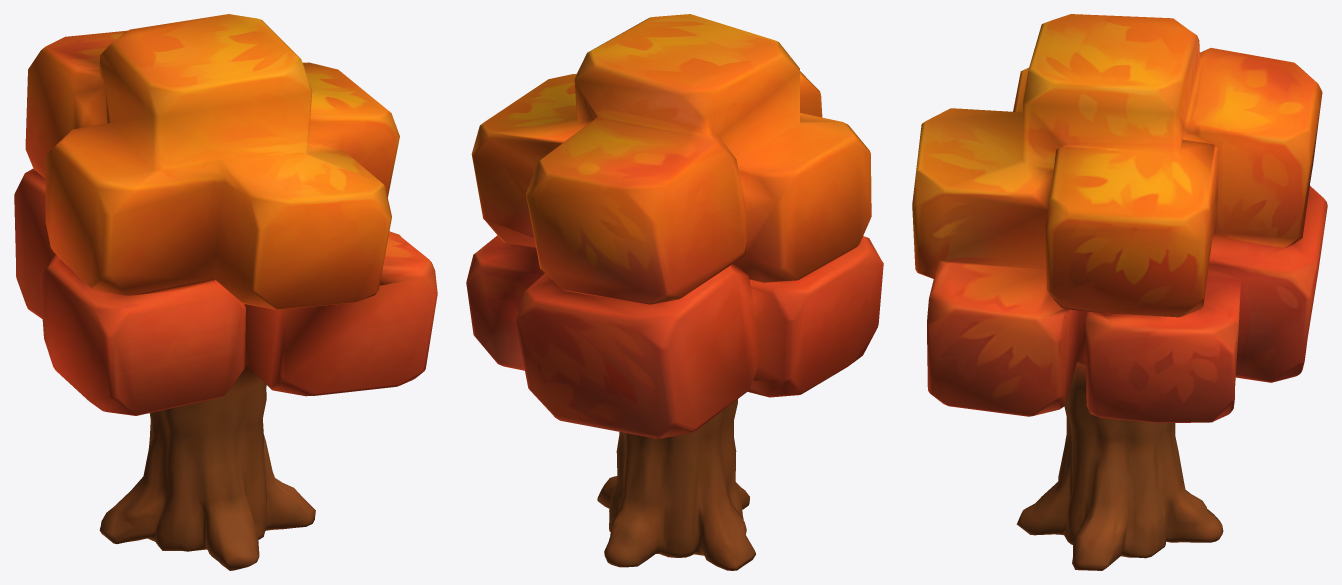
File: graded.glb
The picture shows the model from 3 angles, left to right: view 1: azimuth 30°, elevation 25°; view 2: azimuth 150°, elevation 25°; view 3: azimuth 270°, elevation 25°; orthographic projection.
Visible parts, largest first — view 1: tripo_node_22233a91-d30a-488e-9962-3e92ead279d1; view 2: tripo_node_22233a91-d30a-488e-9962-3e92ead279d1; view 3: tripo_node_22233a91-d30a-488e-9962-3e92ead279d1.
Part boxes in pixels (<box>): tripo_node_22233a91-d30a-488e-9962-3e92ead279d1: <box>14,14,437,570</box>; tripo_node_22233a91-d30a-488e-9962-3e92ead279d1: <box>466,14,883,570</box>; tripo_node_22233a91-d30a-488e-9962-3e92ead279d1: <box>912,14,1327,570</box>.
Size of the model in its own units: 0.6967 by 1 by 0.7789.
Materials: 1 (1 with a texture image).
